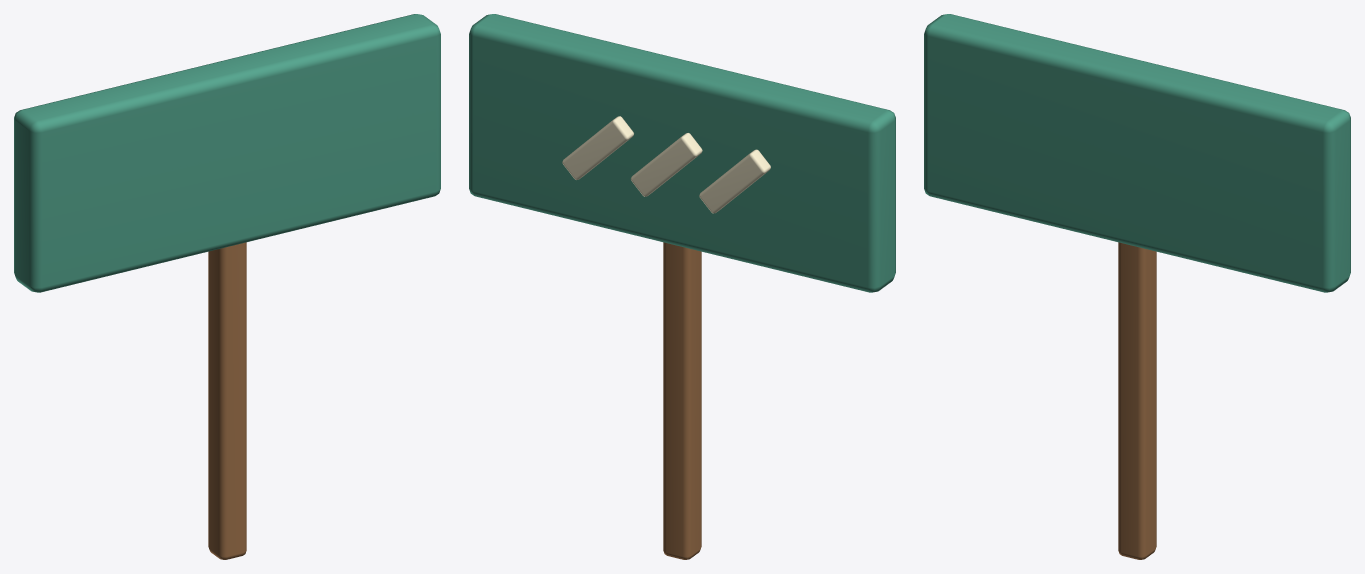
The model's file is prop-sign.glb.
The picture shows the model from 3 angles, left to right: view 1: azimuth 30°, elevation 25°; view 2: azimuth 150°, elevation 25°; view 3: azimuth 330°, elevation 25°; orthographic projection.
Parts seen in each view (by area): view 1: Board, Post; view 2: Board, Post, Arrow, Arrow.001, Arrow.002; view 3: Board, Post.
Boxes of the visible parts, x1,y1,x2,y2 form: Board: (14,14,440,292); Post: (208,242,246,559); Board: (469,14,895,292); Post: (663,242,701,559); Arrow: (699,149,770,213); Arrow.001: (631,133,702,196); Arrow.002: (562,116,633,179); Board: (924,14,1350,292); Post: (1118,242,1156,559).
Size of the model in its own units: 3 by 3.4 by 0.4.
